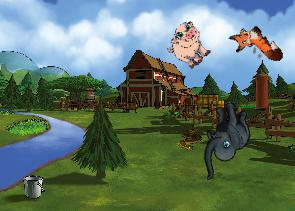elephant: (188, 98, 260, 180)
fox: (225, 16, 286, 77)
pig: (161, 17, 217, 73)
